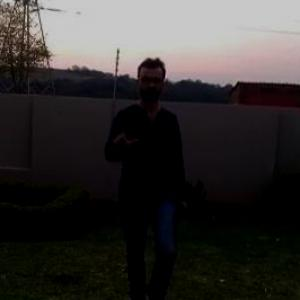land_hand: (104, 106, 143, 152)
